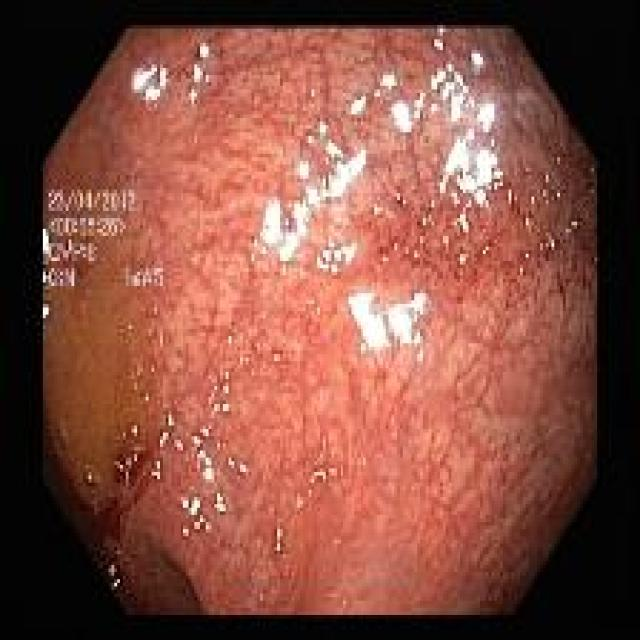ulcerative-colitis: (42, 28, 596, 615)
